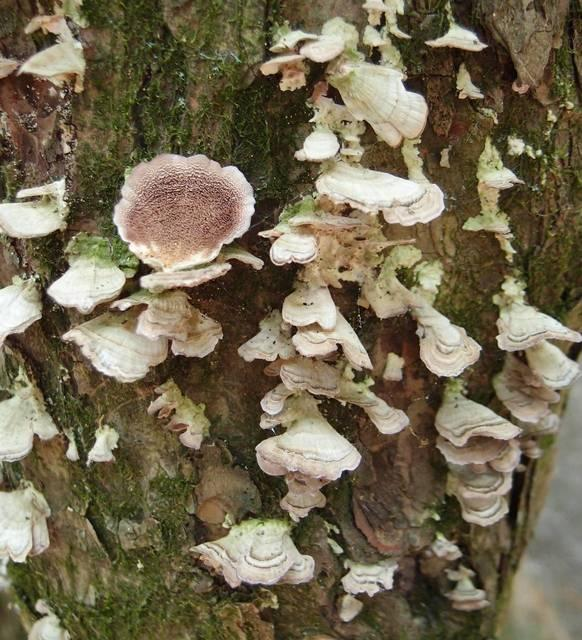poisonous_mushroom: (235, 0, 582, 640), (0, 21, 216, 640), (111, 151, 262, 292)
